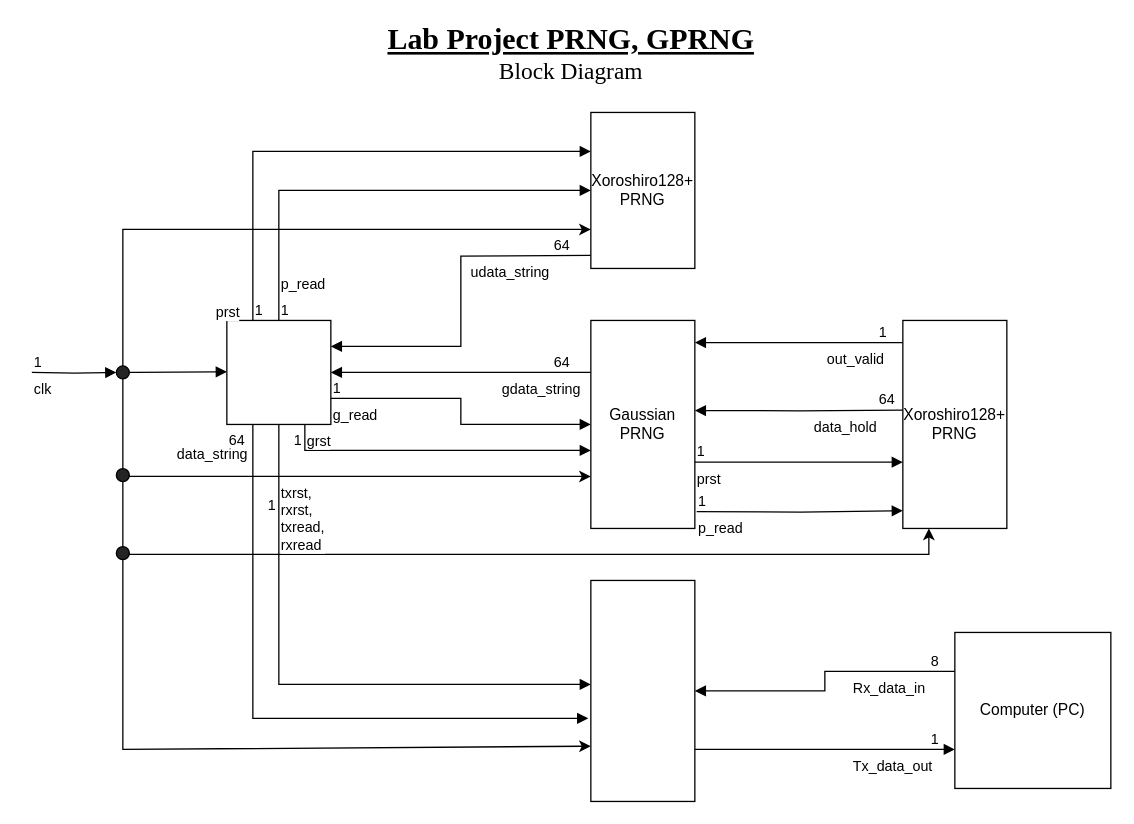
This 1134x824 diagram has some shape labels left out. Here are the shapes that lost their labels. From the top down, the box of each, then its label:
(226, 319, 331, 424): top.vhd Finite State Machine
(590, 579, 695, 801): UART Rx&Tx Controller
